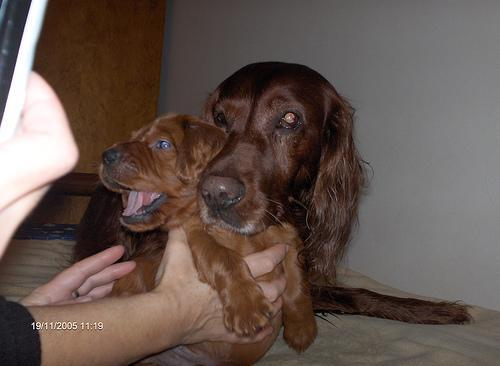Irish_setter: (70, 59, 472, 323)
